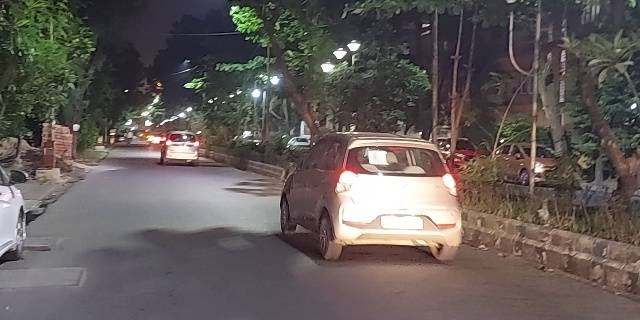Car: (278, 133, 461, 261), (159, 130, 199, 166)
